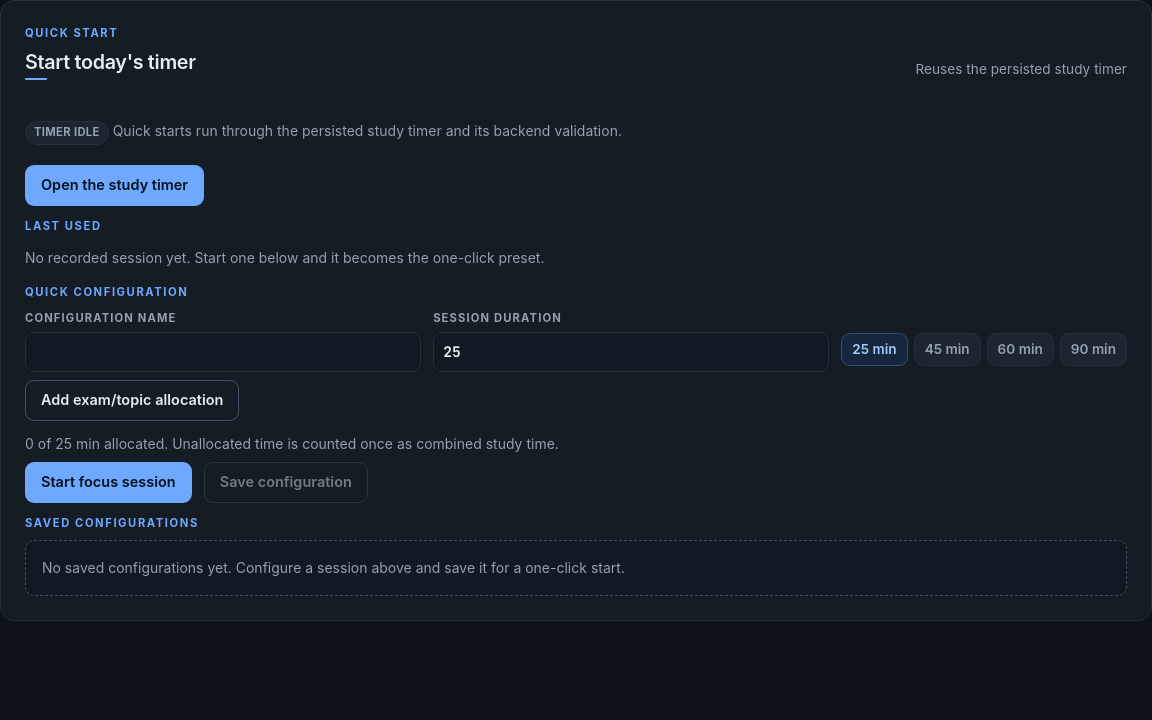
Test case: QuickStartSection › explains how to restore the timer when the study section is hidden
Check: the text "Timer idle" is shown, box [25,121,109,145]
Click the button "Open the study timer" at (115, 185), box [25,165,204,206]
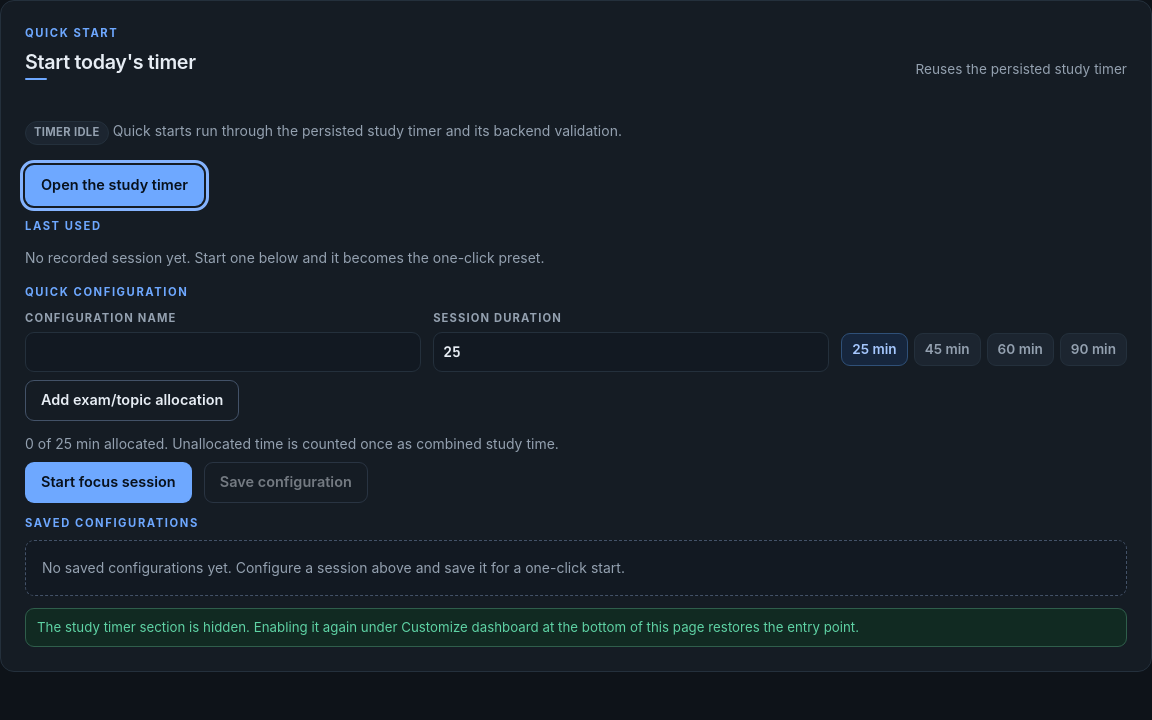
Check: the message shows "study timer section is hidden", box [37,619,859,635]
